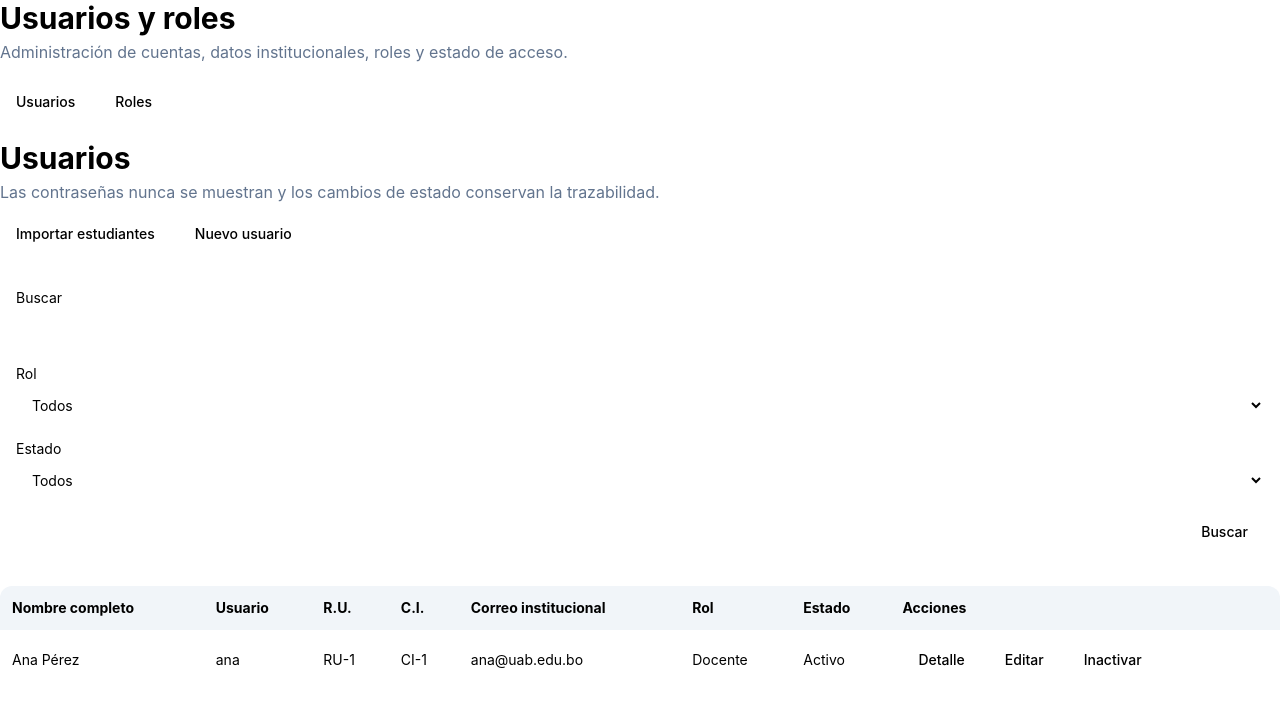
it: permite seleccionar staff al editar de DOCENTE a ADMINISTRADOR
The image size is (1280, 707).
Later steps or results of the test are not shown.
expect the text "Ana Pérez" is shown: met, box left=0, top=630, right=204, bottom=690
Click the button "Editar". click: {"x": 1024, "y": 660}
box: left=989, top=642, right=1060, bottom=678
(page scrolled)
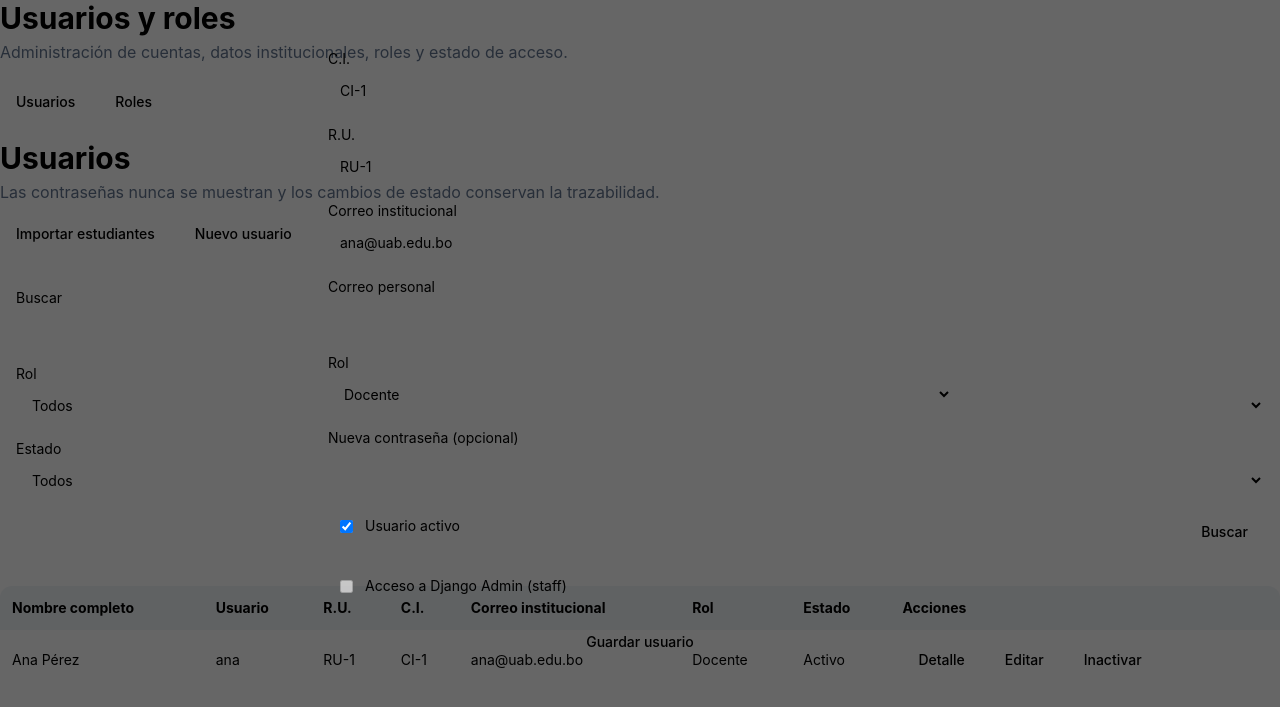
expect the checkbox labelled "Acceso a Django Admin (staff)" is disabled: met, box left=340, top=580, right=353, bottom=592
Select "Administrador" in the dropdown labelled "Rol". click: {"x": 640, "y": 394}
box: left=328, top=377, right=952, bottom=412
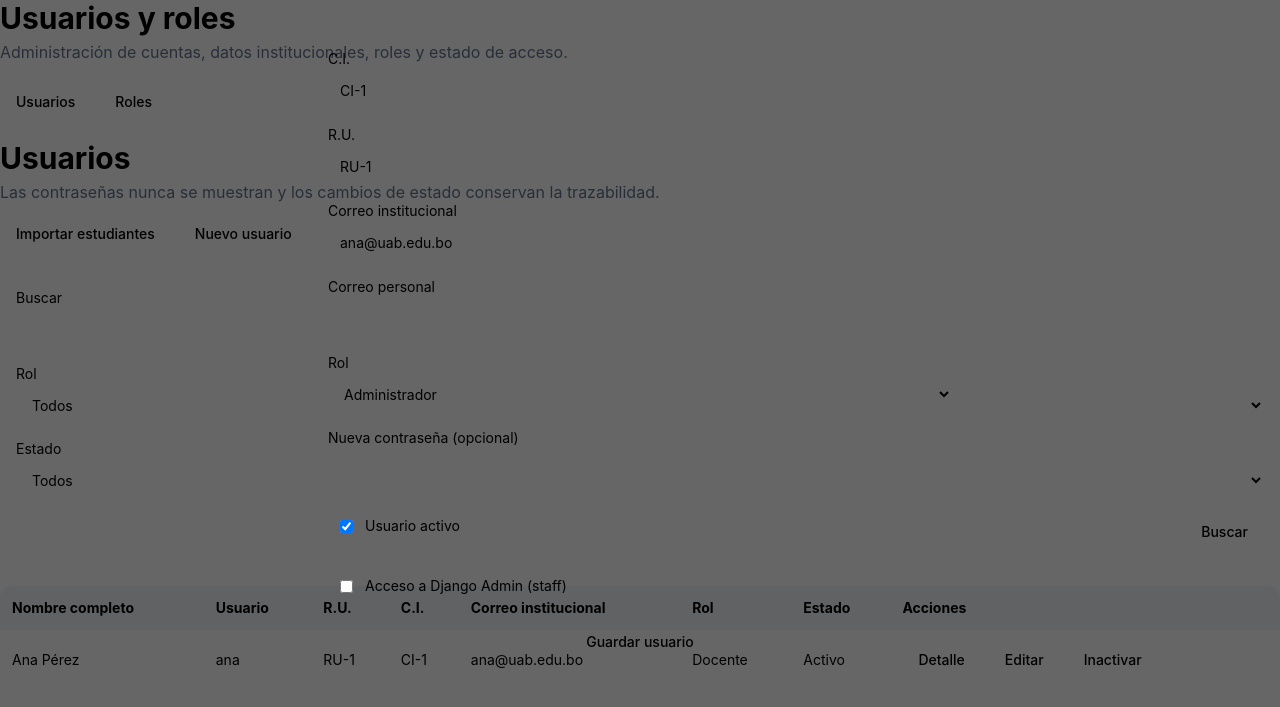
expect the checkbox labelled "Acceso a Django Admin (staff)" is not checked: met, box left=340, top=580, right=353, bottom=592
